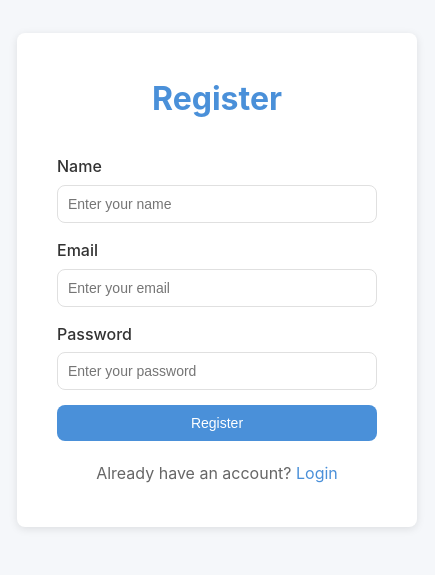
Test: Register › should show error when fields are empty
The width and height of the screenshot is (435, 575).
Click the button "Register": x=217, y=423 x1=57 y1=405 x2=377 y2=441
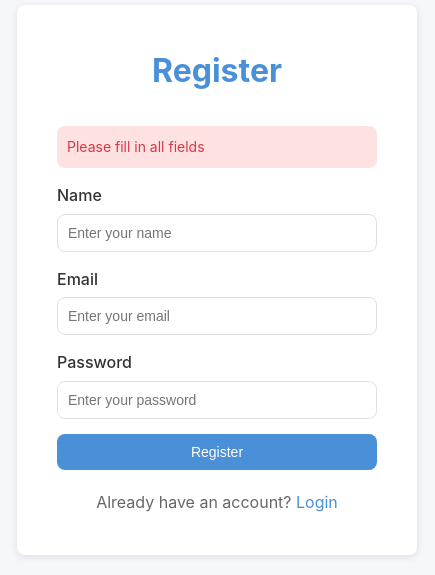
expect the text "Please fill in all fields" is shown: met, box x1=57 y1=126 x2=377 y2=168
